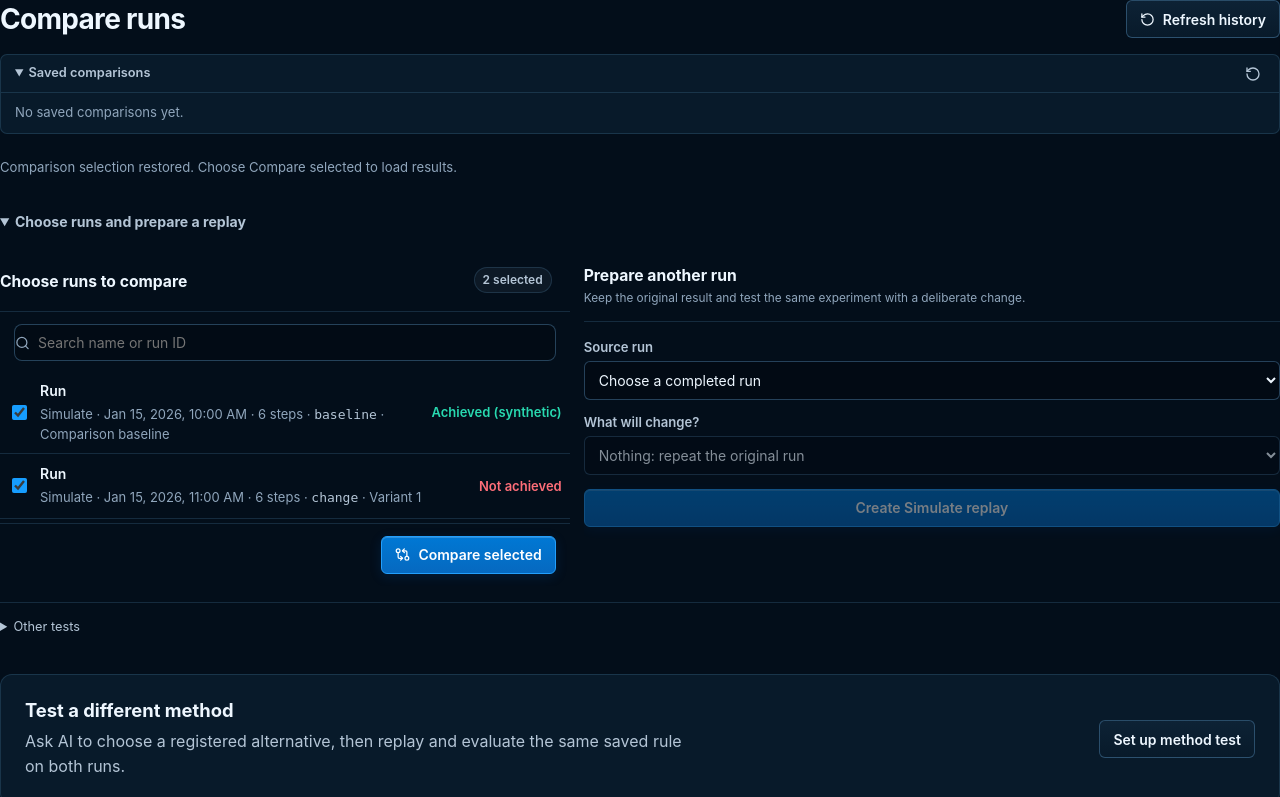
Test: rejects a restored comparison with a mismatched run list
Check: the heading "Compare runs" is shown, box [0,2,185,36]
Click the button "Compare selected".
click(469, 554)  # box [381,536,556,574]
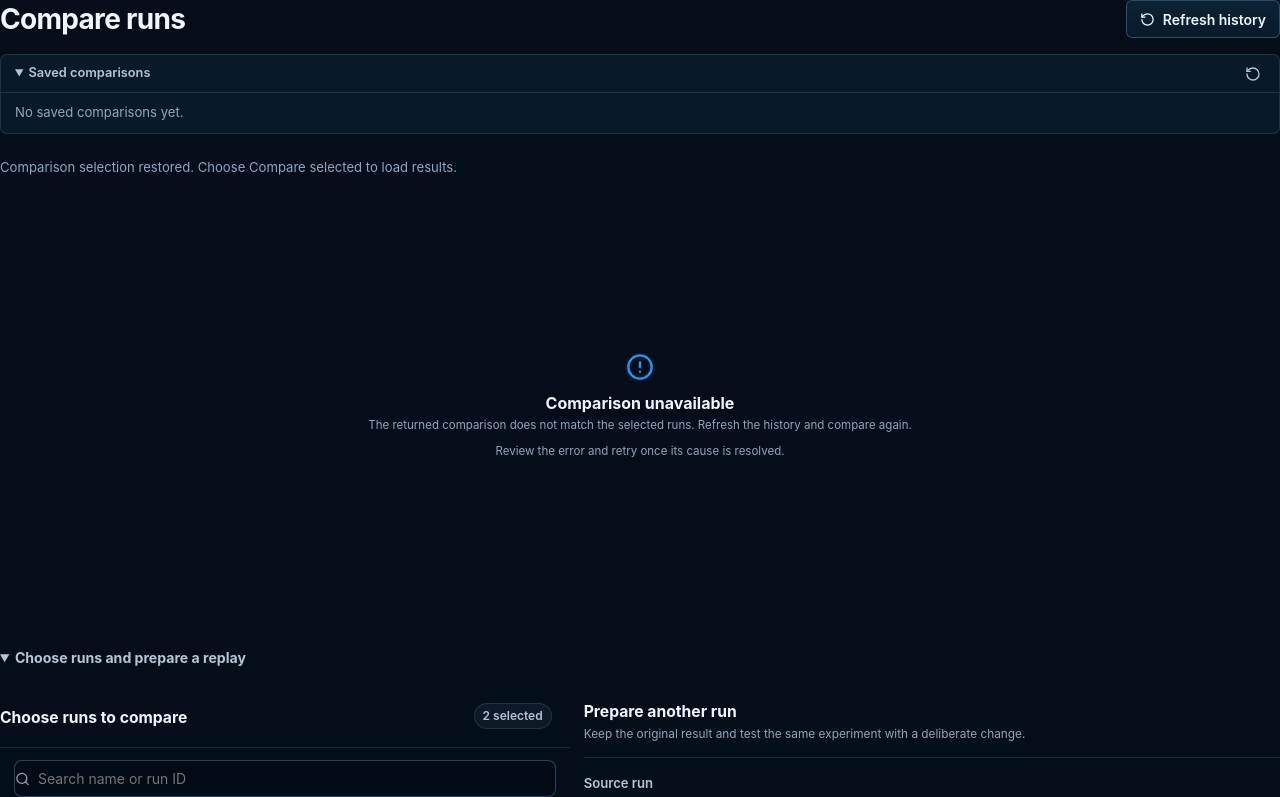
Check: the text "returned comparison does not match" is shown, box [368,418,912,432]
